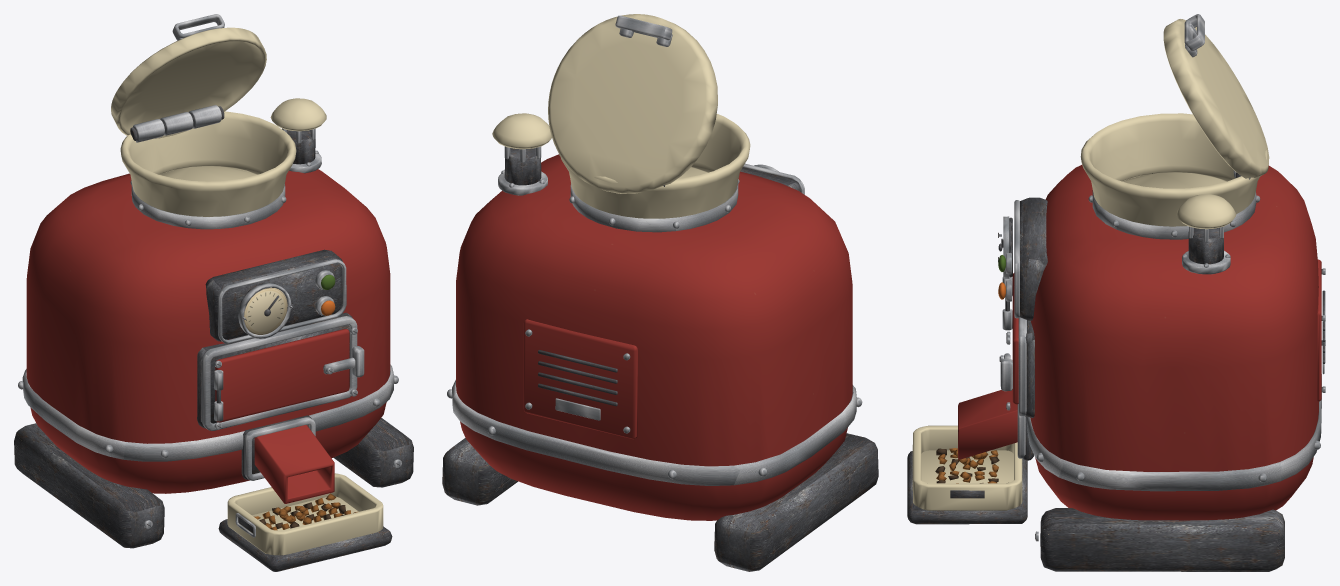
File: FertilizerMaker_Cozy_LOD0.fbx
3 views of the same model, side by side, from view 1: azimuth 30°, elevation 25°; view 2: azimuth 150°, elevation 25°; view 3: azimuth 270°, elevation 25° (orthographic). The views are drawn at different scales.
Parts seen in each view (by area): view 1: FertilizerMaker_Cozy_LOD0; view 2: FertilizerMaker_Cozy_LOD0; view 3: FertilizerMaker_Cozy_LOD0.
Part boxes in pixels (x1=…): FertilizerMaker_Cozy_LOD0: x1=14, y1=14, x2=413, y2=571; FertilizerMaker_Cozy_LOD0: x1=442, y1=14, x2=878, y2=571; FertilizerMaker_Cozy_LOD0: x1=907, y1=14, x2=1325, y2=571.
Bounding box in the file's own units: 112 × 156 × 124.
